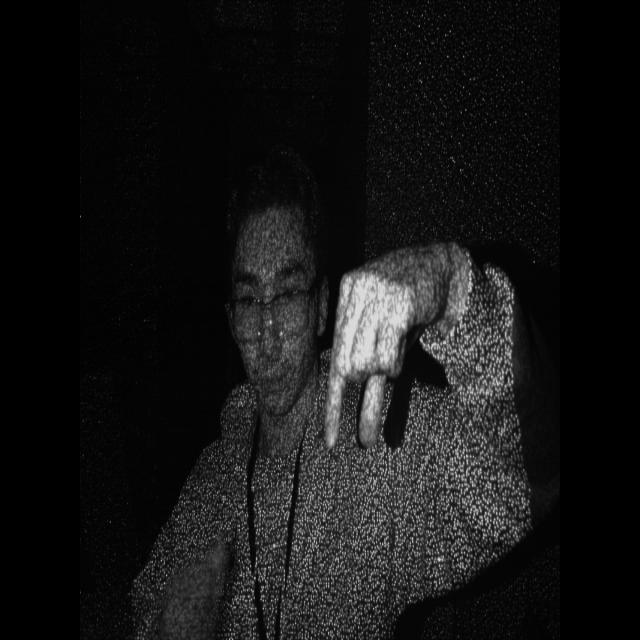Q: (318, 240, 424, 475)
